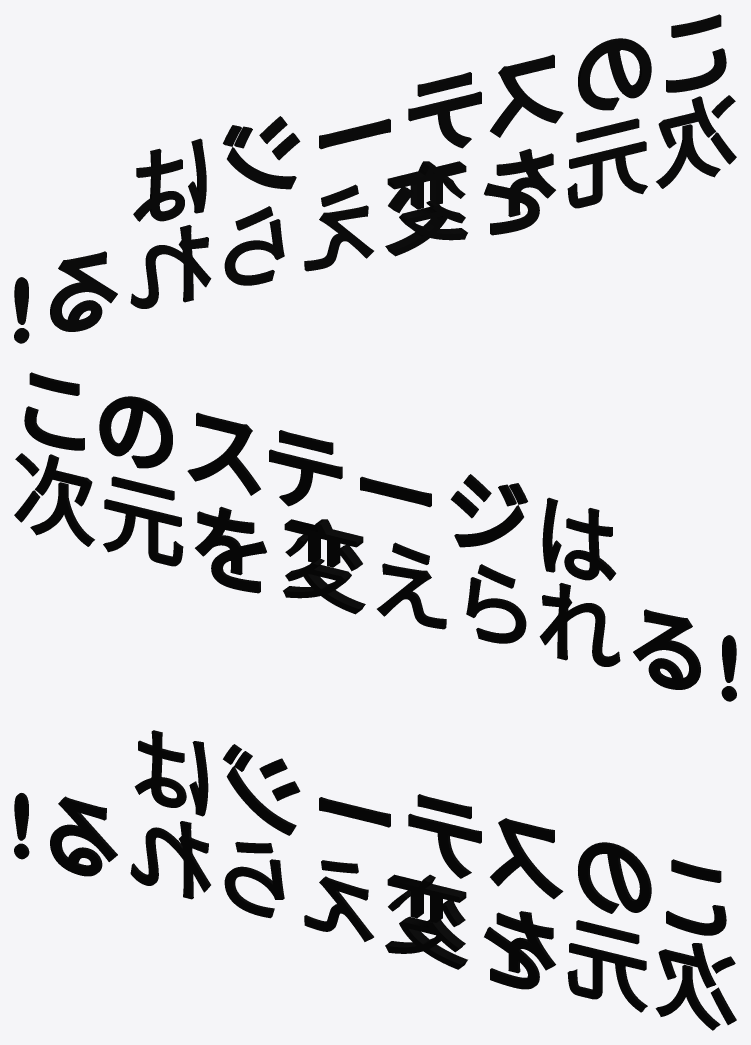
The model's file is stage3text1.obj.
3 views of the same model, one above another, from view 1: azimuth 30°, elevation 25°; view 2: azimuth 150°, elevation 25°; view 3: azimuth 330°, elevation 25° (orthographic).
Visible parts, largest first — view 1: Text.008, Text.013, Text.007, Text.006, Text.001, Text.018, Text.016, Text.011, Text.005, Text.003, Text.002, Text.009 (+4 smaller); view 2: Text.008, Text.013, Text.007, Text.006, Text.001, Text.018, Text.016, Text.011, Text.005, Text.003, Text.002, Text.009 (+4 smaller); view 3: Text.008, Text.013, Text.006, Text.001, Text.007, Text.016, Text.018, Text.011, Text.003, Text.005, Text.002, Text.009 (+4 smaller).
Boxes of the visible parts, x1,y1,x2,y2 form: Text.008: (385, 161, 467, 256); Text.013: (484, 148, 555, 235); Text.007: (567, 118, 647, 208); Text.006: (656, 95, 736, 188); Text.001: (578, 38, 651, 110); Text.018: (133, 138, 206, 221); Text.016: (50, 251, 117, 331); Text.011: (130, 225, 211, 308); Text.005: (223, 116, 300, 189); Text.003: (408, 72, 481, 148); Text.002: (490, 54, 563, 137); Text.009: (304, 184, 373, 271); Text.008: (283, 519, 365, 614); Text.013: (195, 506, 266, 593); Text.007: (103, 476, 183, 566); Text.006: (14, 453, 94, 546); Text.001: (99, 396, 172, 468); Text.018: (542, 497, 616, 580); Text.016: (633, 609, 700, 689); Text.011: (539, 583, 620, 666); Text.005: (450, 474, 527, 547); Text.003: (269, 430, 342, 506); Text.002: (187, 412, 260, 495); Text.009: (377, 542, 446, 629); Text.008: (385, 874, 467, 969); Text.013: (484, 911, 555, 989); Text.006: (655, 943, 736, 1030); Text.001: (578, 842, 651, 913); Text.007: (567, 920, 647, 1012); Text.016: (50, 796, 117, 876); Text.018: (134, 730, 208, 816); Text.011: (130, 821, 210, 899); Text.003: (408, 794, 481, 878); Text.005: (223, 744, 300, 835); Text.002: (490, 818, 563, 899); Text.009: (304, 860, 373, 941).
Size of the model in its own units: 8.62 by 1.98 by 0.14.
